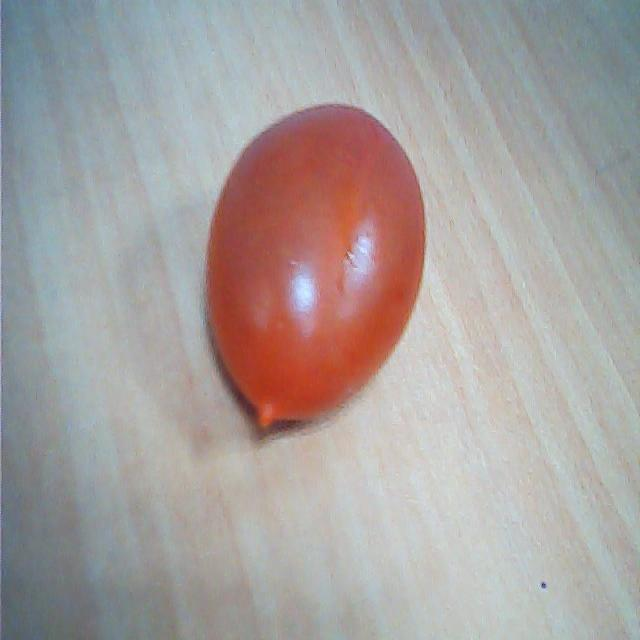maduro: (202, 100, 429, 443)
